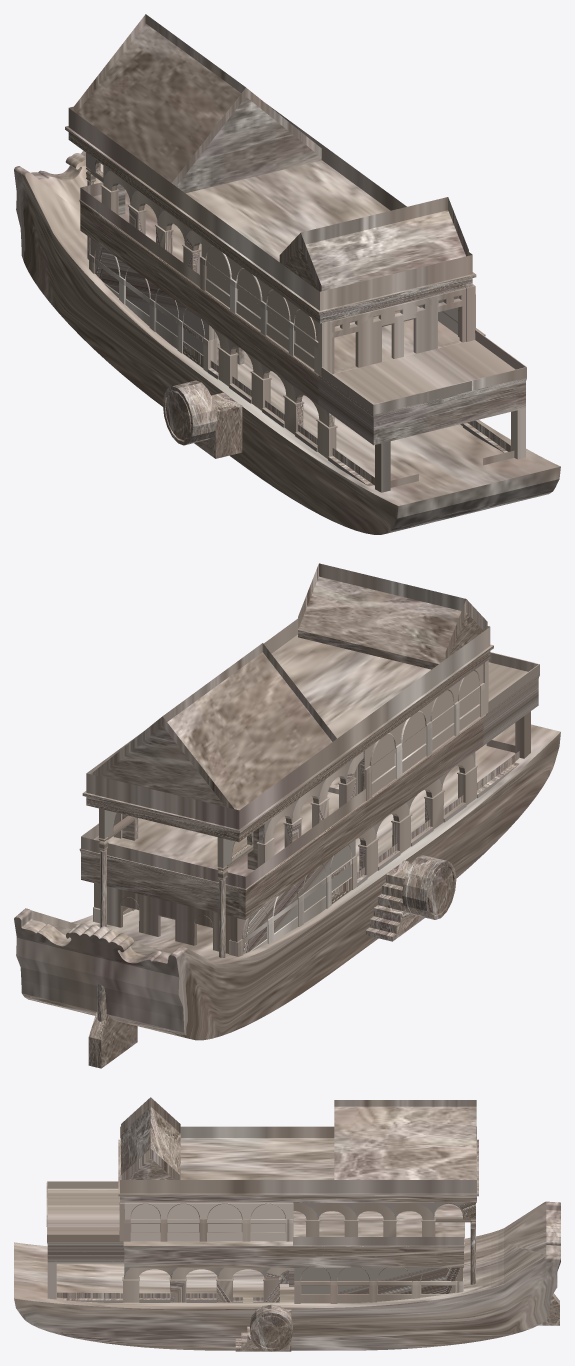
The model's file is Bateau.glb.
The picture shows the model from 3 angles, top to bottom: view 1: azimuth 30°, elevation 25°; view 2: azimuth 150°, elevation 25°; view 3: azimuth 270°, elevation 25°; orthographic projection. The views are drawn at different scales.
Parts seen in each view (by area): view 1: Cube.010; view 2: Cube.010; view 3: Cube.010.
Part boxes in pixels (x1,y1,x2,y2): Cube.010: (14,14,560,534); Cube.010: (14,563,560,1068); Cube.010: (14,1097,560,1351).
Size of the model in its own units: 60.46 by 67.25 by 151.
Materials: 1 (1 with a texture image).
